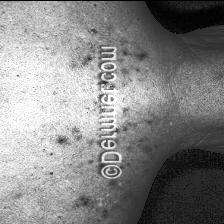Non-Cancerous Skin Condition: (50, 11, 98, 221), (122, 32, 166, 152), (103, 183, 139, 219)
